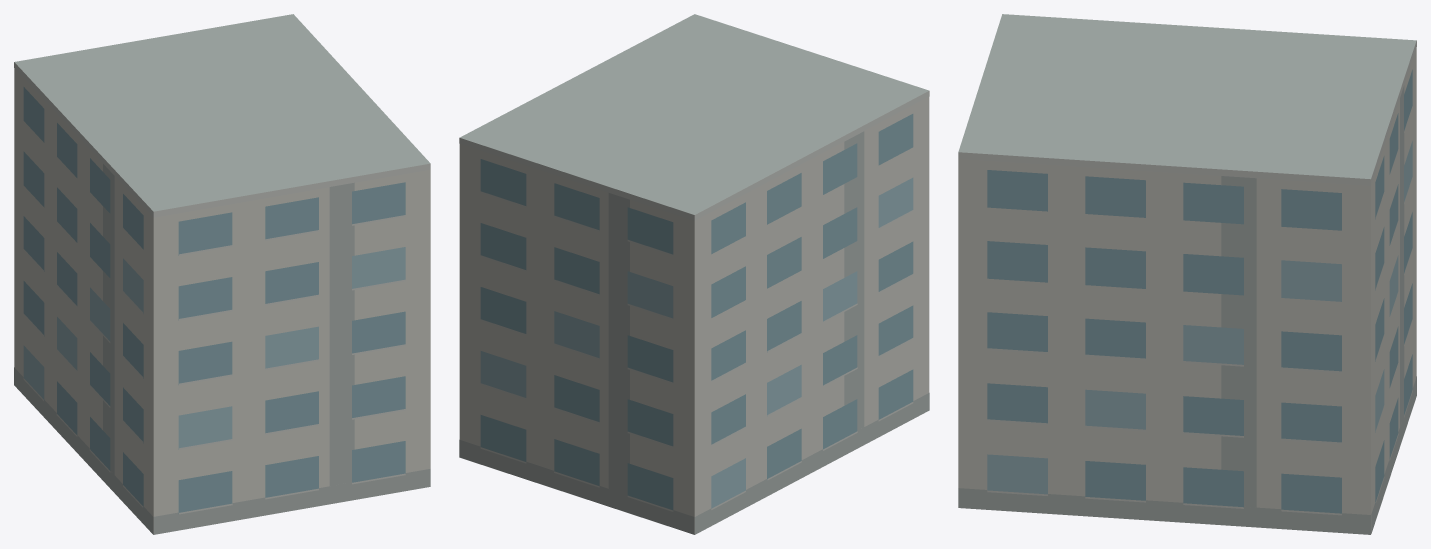
The model's file is survey-upis-32996376.glb.
3 renders of one model, left to right at view 1: azimuth 30°, elevation 25°; view 2: azimuth 150°, elevation 25°; view 3: azimuth 270°, elevation 25°, orthographic. The views are drawn at different scales.
Parts seen in each view (by area): view 1: survey-upis-32996376.tmp; view 2: survey-upis-32996376.tmp; view 3: survey-upis-32996376.tmp.
Boxes of the visible parts, bbox=[...] form: survey-upis-32996376.tmp: bbox=[14, 14, 430, 534]; survey-upis-32996376.tmp: bbox=[459, 14, 929, 534]; survey-upis-32996376.tmp: bbox=[958, 14, 1416, 534].
Size of the model in its own units: 13.15 by 13.2 by 15.43.
